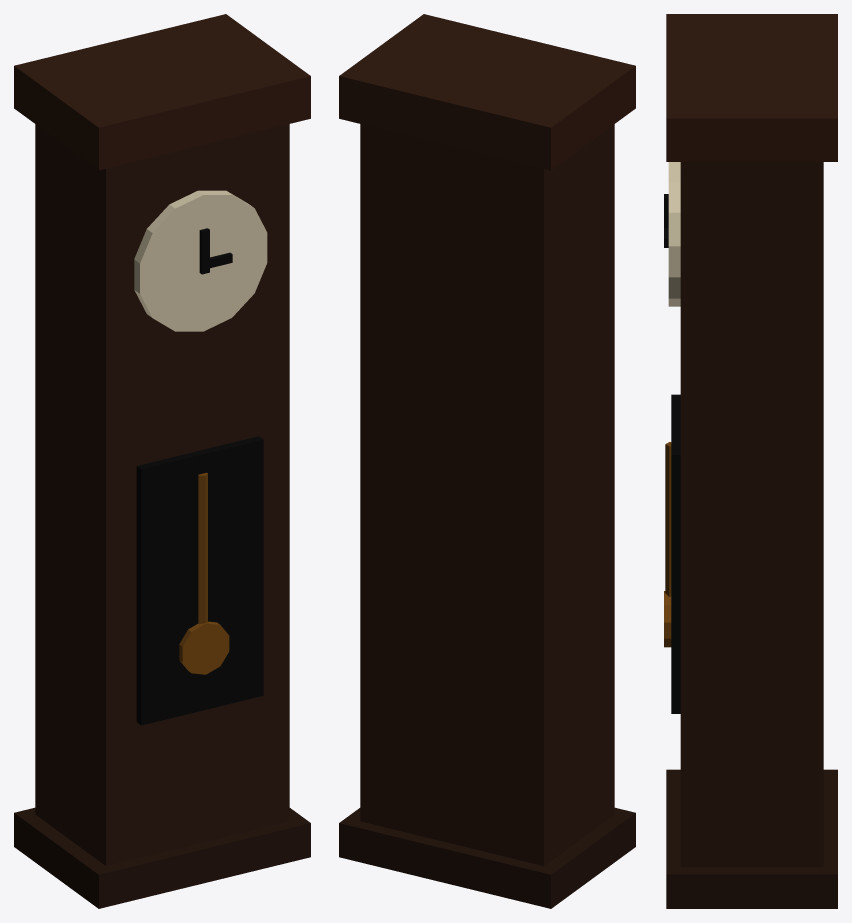
Rendered from clock.obj.
The picture shows the model from 3 angles, left to right: view 1: azimuth 30°, elevation 25°; view 2: azimuth 150°, elevation 25°; view 3: azimuth 270°, elevation 25°; orthographic projection.
Bounding box in the file's own units: 0.52 × 1.83 × 0.365.
